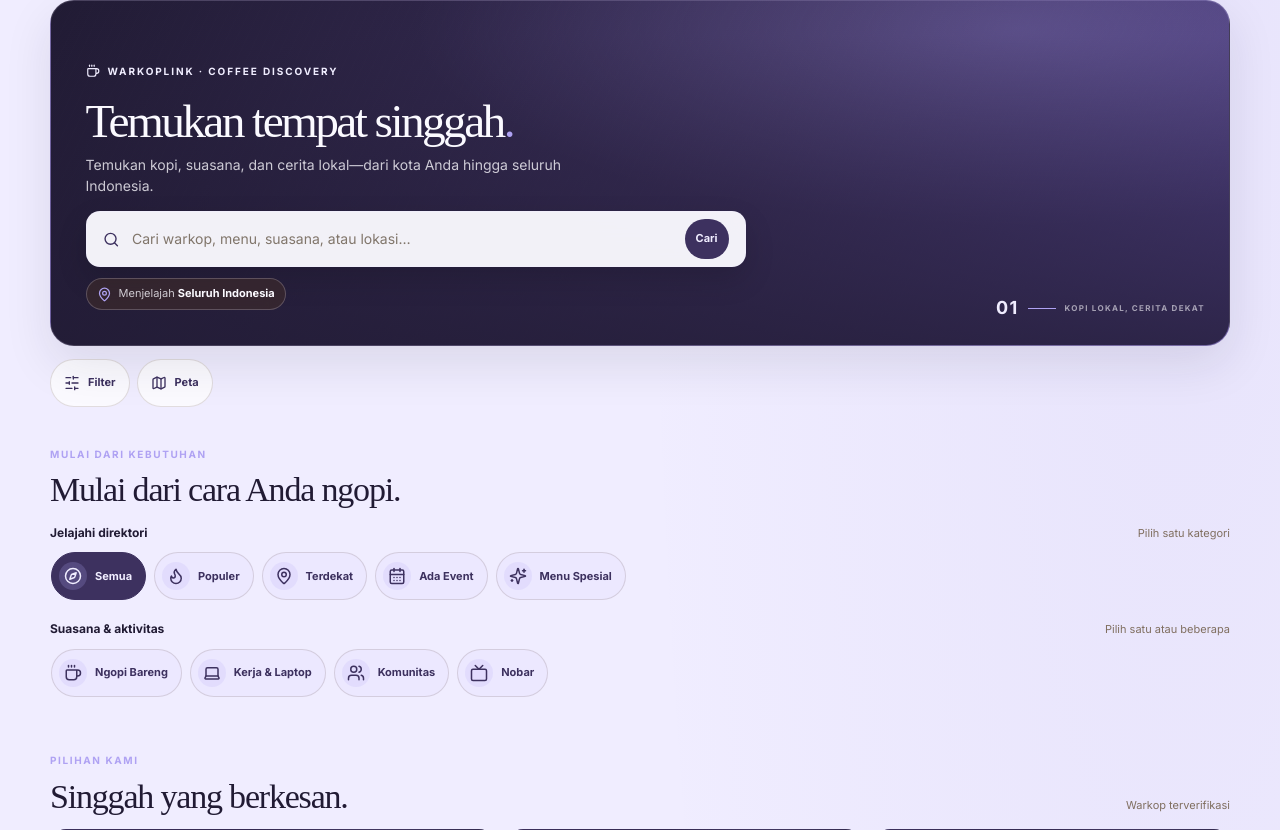
Test: kartu direktori warkop › pencarian hanya memeriksa data yang sudah dimuat tanpa memindai seluruh direktori
Type "Kopi Target" into the search field labelled "Cari warkop".
click(402, 239); type("Kopi Target")  # box [130, 227, 674, 251]
(page scrolled)
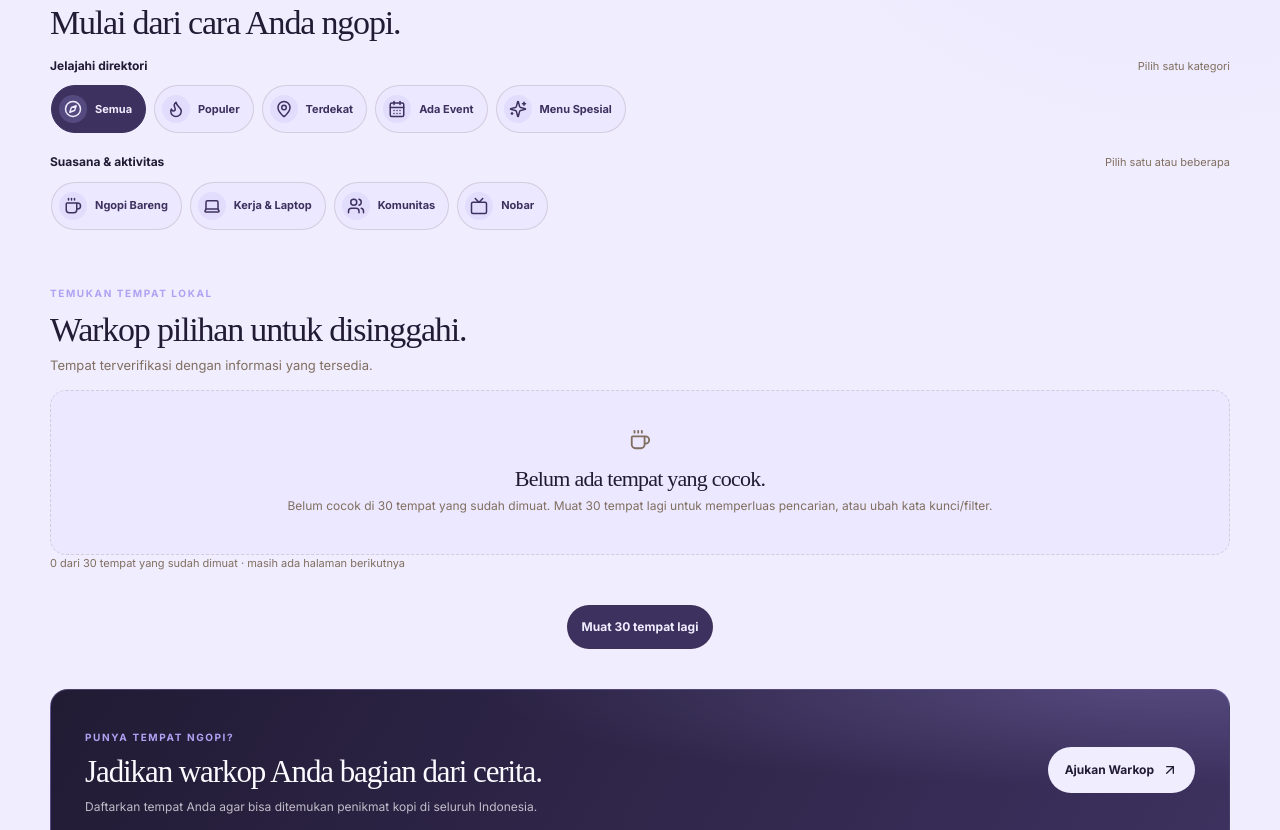
Expected: the text "0 dari 30 tempat yang sudah dimuat" is shown, [50, 556, 405, 570]
Expected: the heading "Belum ada tempat yang cocok." is shown, [515, 466, 765, 491]
